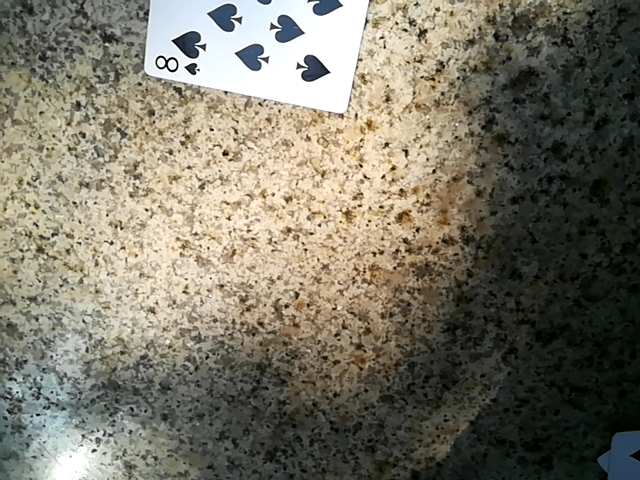ht 8: (139, 0, 372, 117)
